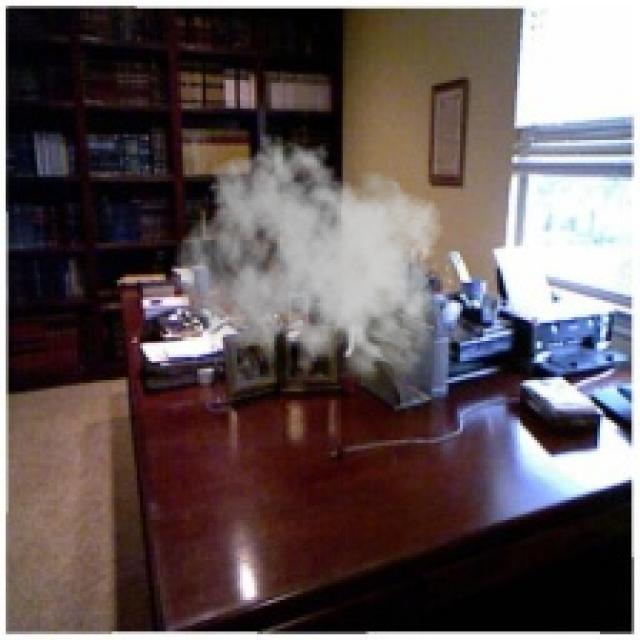smoke: (175, 134, 452, 394)
